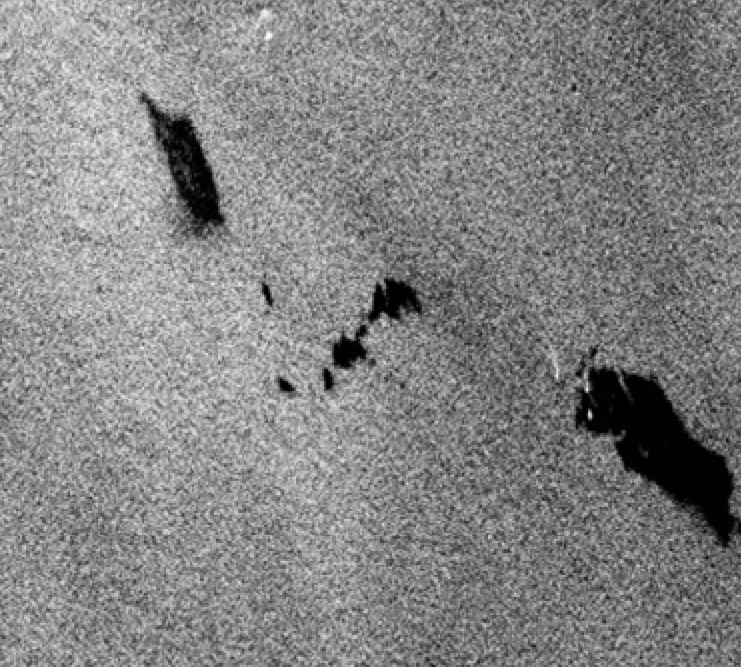anomaly: (548, 316, 741, 550)
